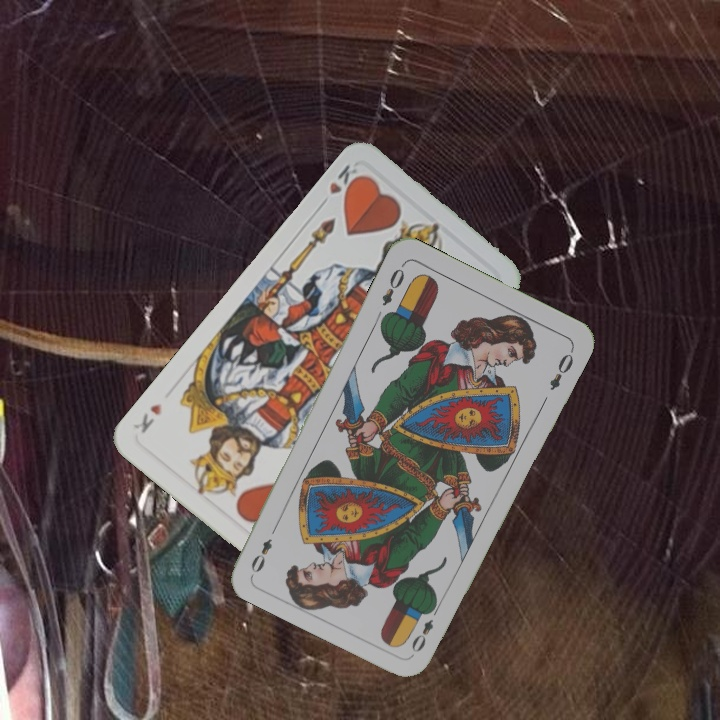EO: (407, 601, 443, 655), (378, 259, 407, 309)
HK: (315, 160, 366, 210)
